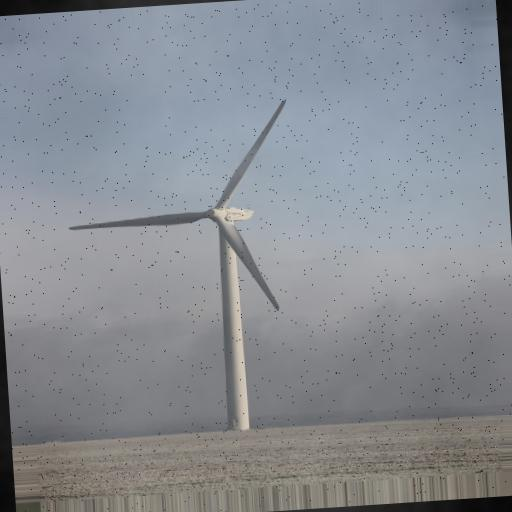wind turbine: (66, 98, 290, 431)
